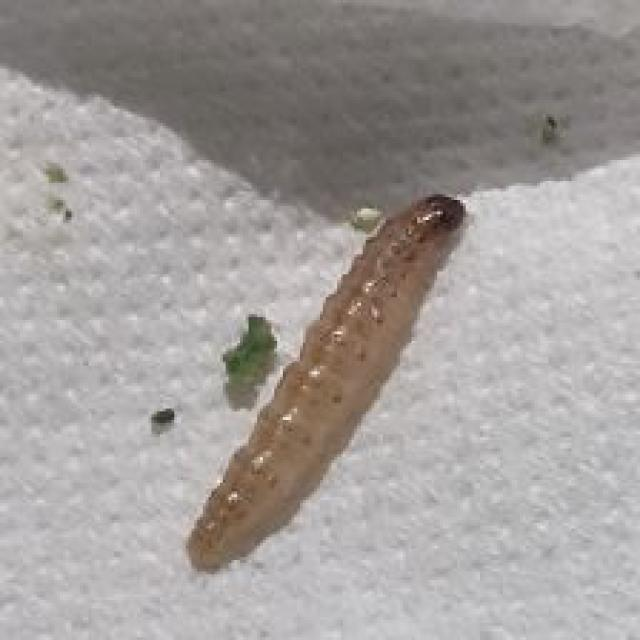white mucus: (166, 200, 483, 572)
